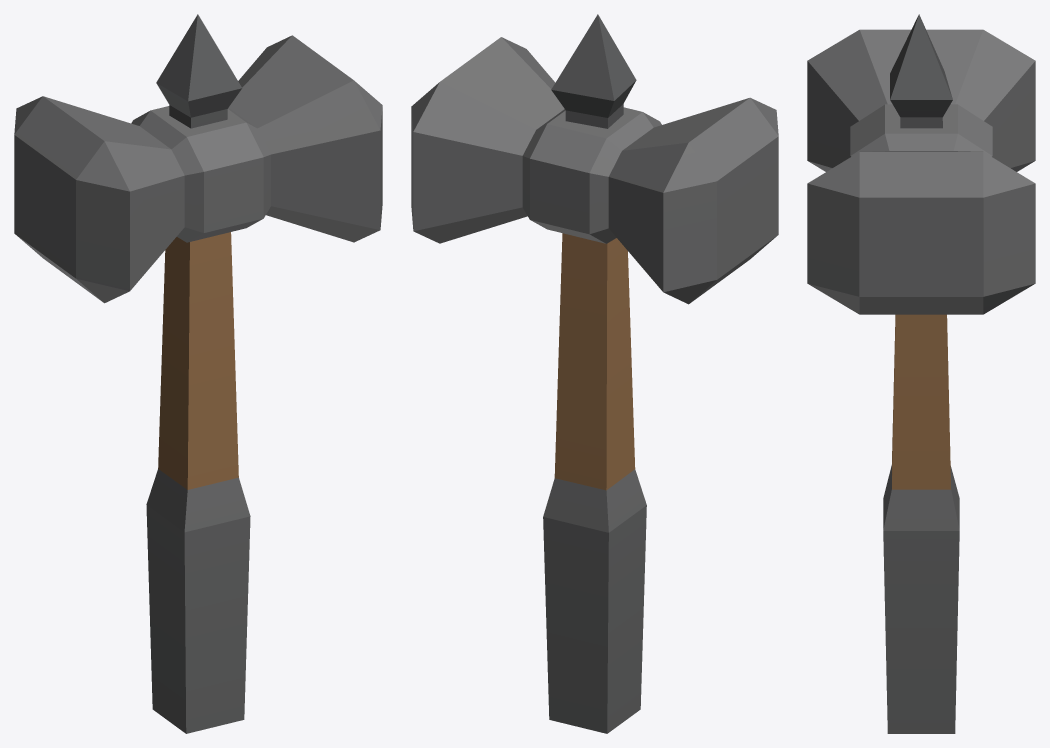
Rendered from Hammer_D.fbx.
3 renders of one model, left to right at view 1: azimuth 30°, elevation 25°; view 2: azimuth 150°, elevation 25°; view 3: azimuth 270°, elevation 25°, orthographic.
Parts seen in each view (by area): view 1: Hammer_D; view 2: Hammer_D; view 3: Hammer_D.
Boxes of the visible parts, <box> form: Hammer_D: <box>14,14,382,733</box>; Hammer_D: <box>411,14,778,733</box>; Hammer_D: <box>807,14,1035,733</box>.
Size of the model in its own units: 38.09 by 83.32 by 24.44.
